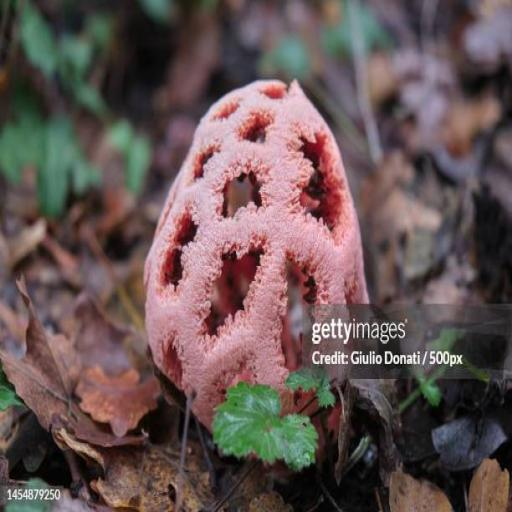mushroom: (140, 75, 357, 471)
